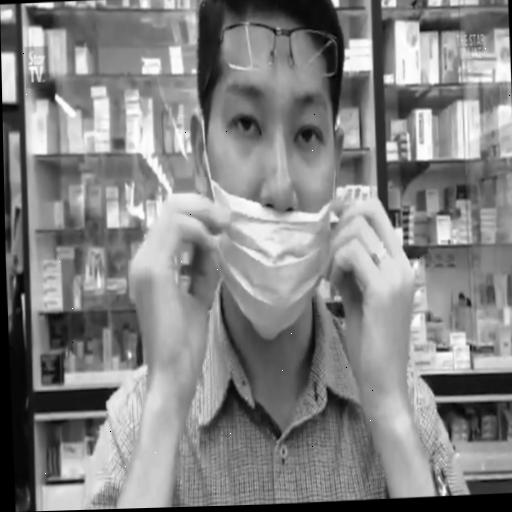mask: (190, 0, 351, 348)
